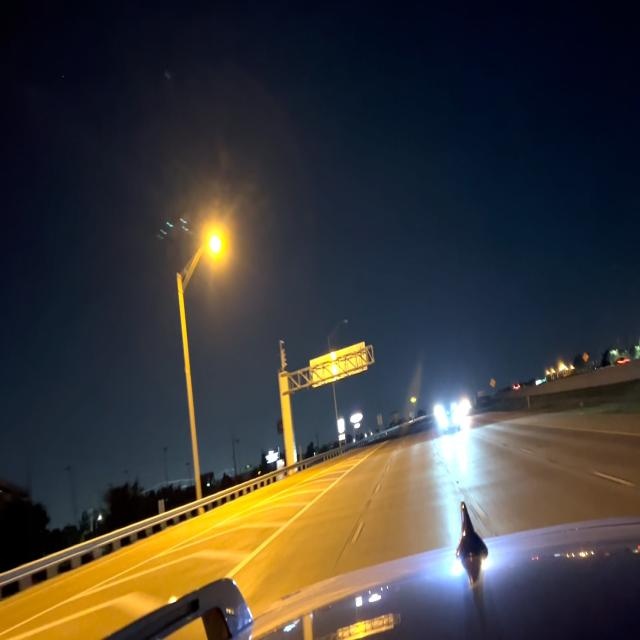back-of-sign: (312, 340, 369, 393)
